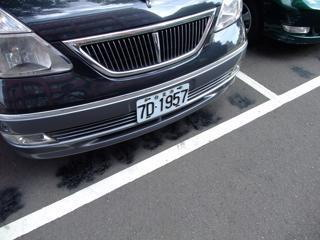plate: (133, 84, 190, 120)
